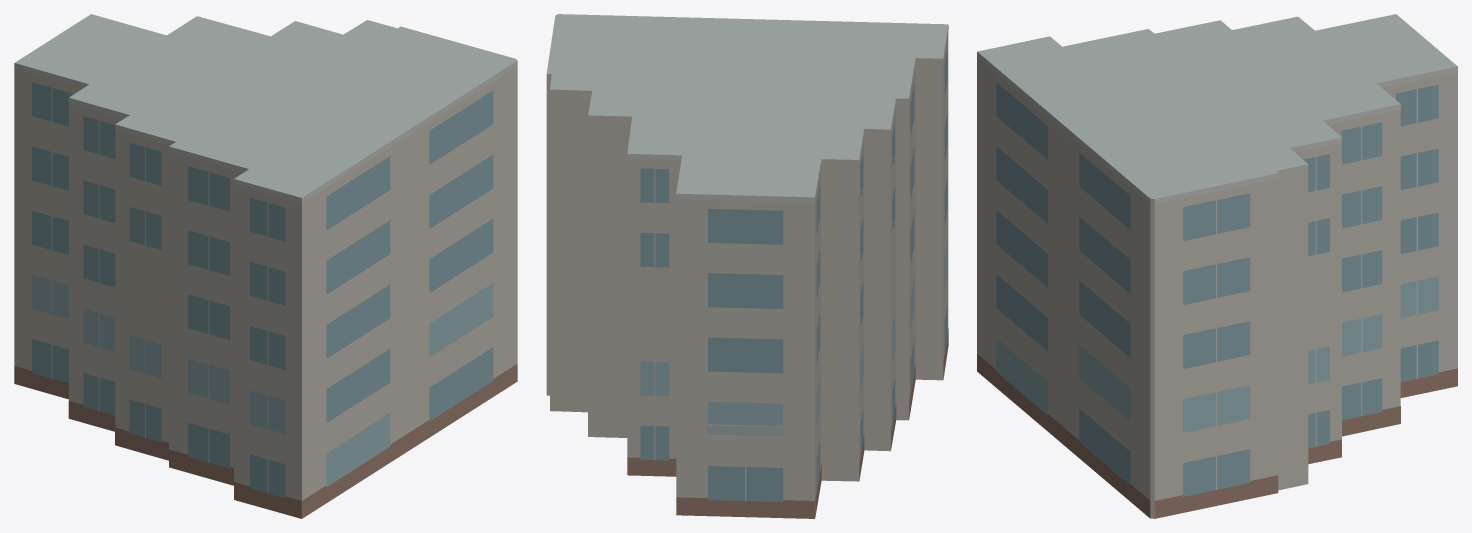
The model's file is survey-upis-32726555.glb.
3 renders of one model, left to right at view 1: azimuth 30°, elevation 25°; view 2: azimuth 150°, elevation 25°; view 3: azimuth 270°, elevation 25°, orthographic.
Visible parts, largest first — view 1: survey-upis-32726555.tmp; view 2: survey-upis-32726555.tmp; view 3: survey-upis-32726555.tmp.
Part boxes in pixels (left/top/right/bottom): survey-upis-32726555.tmp: left=14, top=14, right=517, bottom=518; survey-upis-32726555.tmp: left=546, top=14, right=948, bottom=518; survey-upis-32726555.tmp: left=977, top=14, right=1457, bottom=518.
Size of the model in its own units: 17.97 by 14.48 by 19.73.
